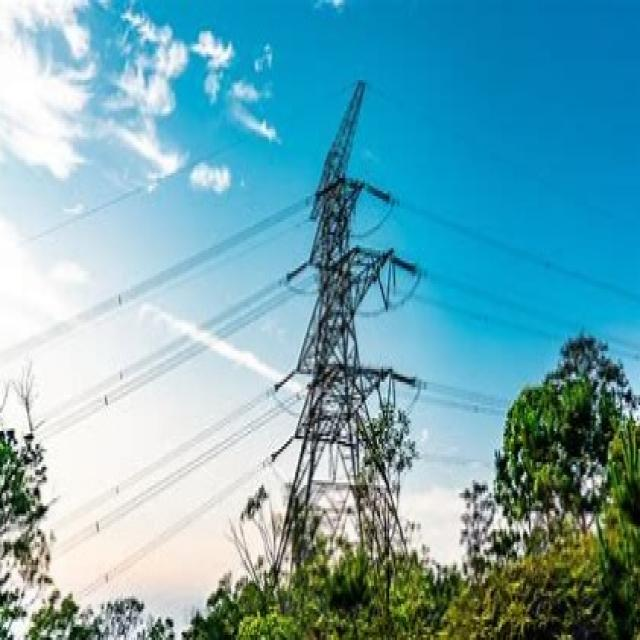utility poles: (491, 308, 597, 490), (336, 378, 422, 538)
